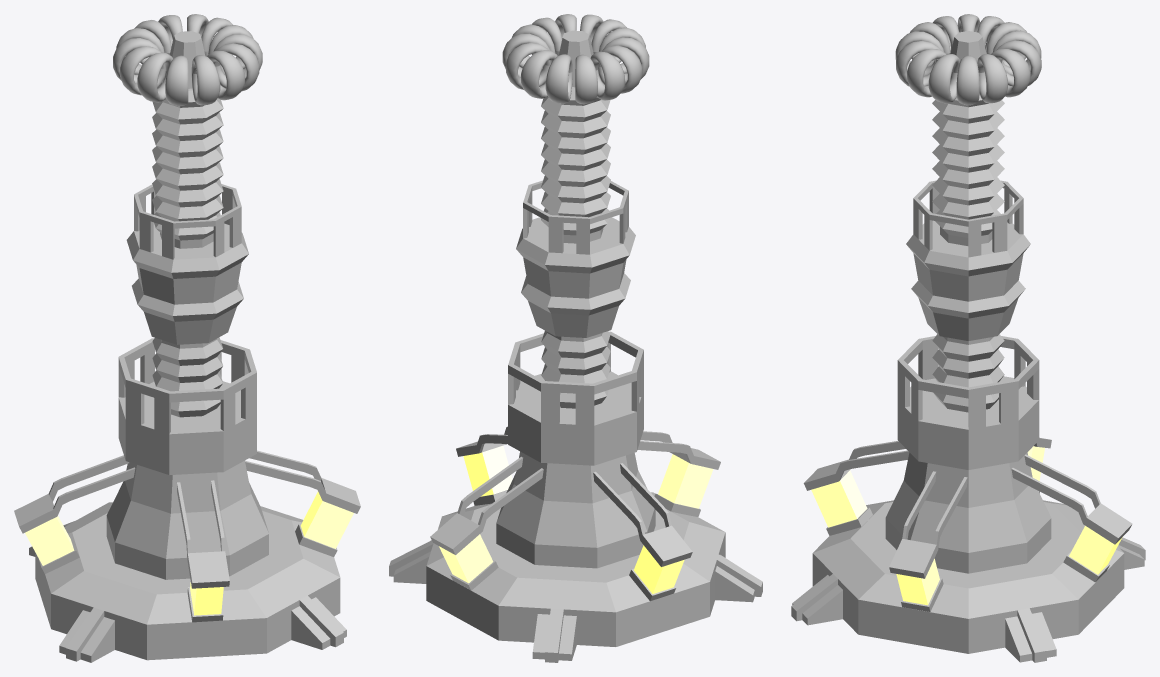
The model's file is Tesla Coil.fbx.
3 views of the same model, side by side, from view 1: azimuth 30°, elevation 25°; view 2: azimuth 150°, elevation 25°; view 3: azimuth 270°, elevation 25° (orthographic). The views are drawn at different scales.
Parts seen in each view (by area): view 1: Tesla Coil; view 2: Tesla Coil; view 3: Tesla Coil.
Boxes of the visible parts, <box> form: Tesla Coil: <box>14,14,360,662</box>; Tesla Coil: <box>389,14,762,662</box>; Tesla Coil: <box>791,14,1145,662</box>.
Bounding box in the file's own units: 51.02 × 87.65 × 51.02.
